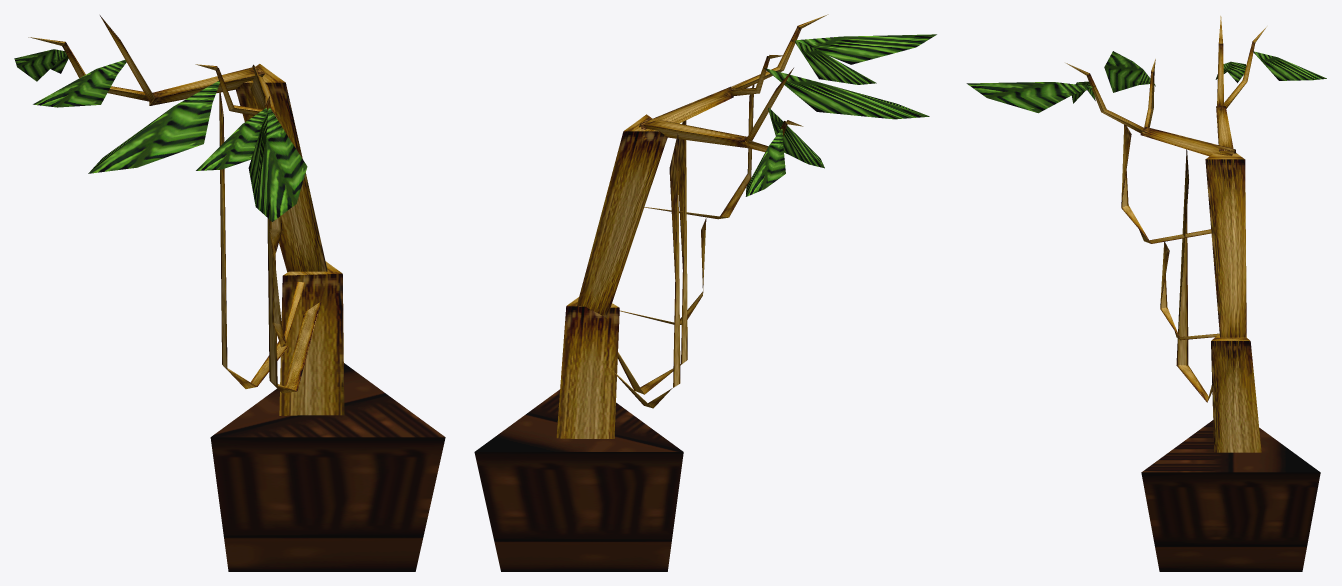
Rendered from Baum_Topfpalme_288.glb.
3 views of the same model, side by side, from view 1: azimuth 30°, elevation 25°; view 2: azimuth 150°, elevation 25°; view 3: azimuth 270°, elevation 25° (orthographic). The views are drawn at different scales.
Parts seen in each view (by area): view 1: pCylinderShape85, pCylinderShape14, pCylinderShape27, pPlaneShape19, pPlaneShape18, pPlaneShape10, pPlaneShape15, pPlaneShape9, pPlaneShape17, pCylinderShape28, pPlaneShape16, pPlaneShape20 (+3 smaller); view 2: pCylinderShape85, pCylinderShape27, pCylinderShape14, pPlaneShape19, pPlaneShape18, pPlaneShape10, pPlaneShape9, pCylinderShape28, pPlaneShape17, pPlaneShape16, pCylinderShape31, pPlaneShape15 (+2 smaller); view 3: pCylinderShape85, pCylinderShape27, pCylinderShape14, pPlaneShape18, pPlaneShape10, pPlaneShape19, pPlaneShape11, pCylinderShape31, pPlaneShape16, pPlaneShape20, pCylinderShape33, pCylinderShape28 (+1 smaller).
Part boxes in pixels (x1,y1,x2,y2): pCylinderShape85: [210, 363, 445, 571]; pCylinderShape14: [279, 261, 344, 415]; pCylinderShape27: [236, 64, 327, 272]; pPlaneShape19: [88, 81, 219, 173]; pPlaneShape18: [248, 108, 307, 221]; pPlaneShape10: [267, 218, 321, 393]; pPlaneShape15: [33, 60, 126, 107]; pPlaneShape9: [219, 92, 288, 388]; pPlaneShape17: [196, 108, 267, 170]; pCylinderShape28: [149, 67, 264, 105]; pPlaneShape16: [14, 49, 71, 81]; pPlaneShape20: [271, 246, 304, 346]; pCylinderShape85: [474, 389, 683, 571]; pCylinderShape27: [577, 114, 667, 317]; pCylinderShape14: [556, 297, 619, 438]; pPlaneShape19: [764, 68, 929, 119]; pPlaneShape18: [791, 34, 936, 64]; pPlaneShape10: [617, 120, 687, 394]; pPlaneShape9: [603, 133, 680, 408]; pCylinderShape28: [643, 118, 748, 148]; pPlaneShape17: [793, 39, 876, 84]; pPlaneShape16: [745, 128, 785, 196]; pCylinderShape31: [639, 86, 733, 140]; pPlaneShape15: [768, 108, 824, 168]; pCylinderShape85: [1141, 420, 1320, 571]; pCylinderShape27: [1205, 153, 1246, 337]; pCylinderShape14: [1211, 333, 1261, 452]; pPlaneShape18: [966, 82, 1094, 113]; pPlaneShape10: [1176, 149, 1212, 402]; pPlaneShape19: [1104, 51, 1155, 92]; pPlaneShape11: [1121, 124, 1211, 243]; pCylinderShape31: [1140, 127, 1236, 156]; pPlaneShape16: [1252, 51, 1326, 80]; pPlaneShape20: [1160, 241, 1218, 339]; pCylinderShape33: [1066, 63, 1145, 133]; pCylinderShape28: [1216, 106, 1233, 152].
Size of the model in its own units: 0.3991 by 0.6043 by 0.4349.
Materials: 18 (18 with a texture image).
